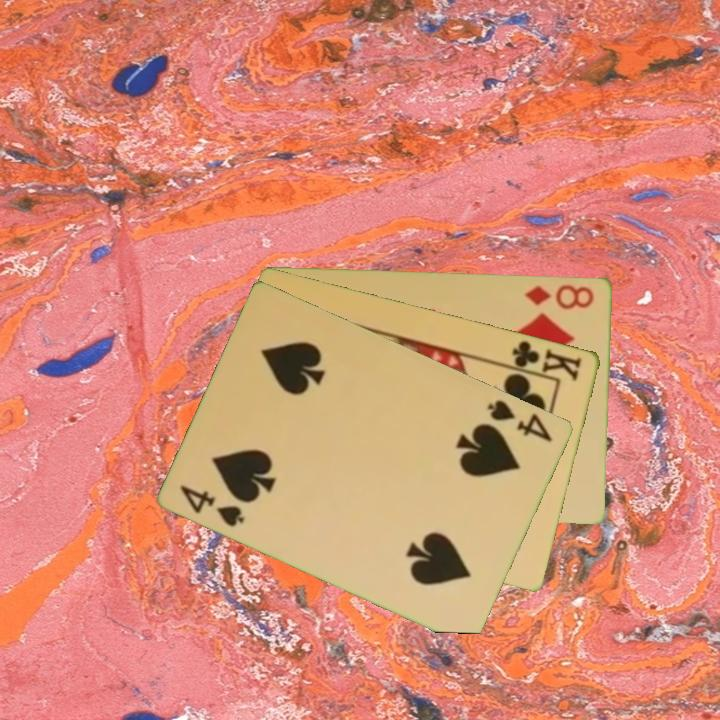4s: (484, 395, 556, 445), (177, 481, 248, 530)
8d: (522, 281, 598, 312)
Kc: (502, 336, 585, 384)
